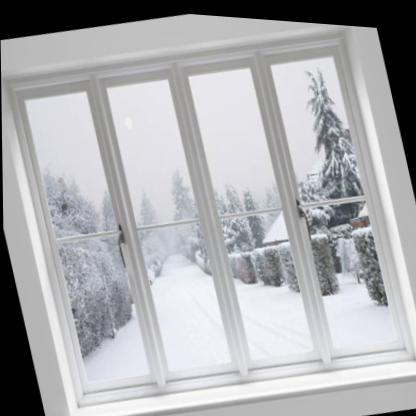Window: (4, 9, 416, 416)
